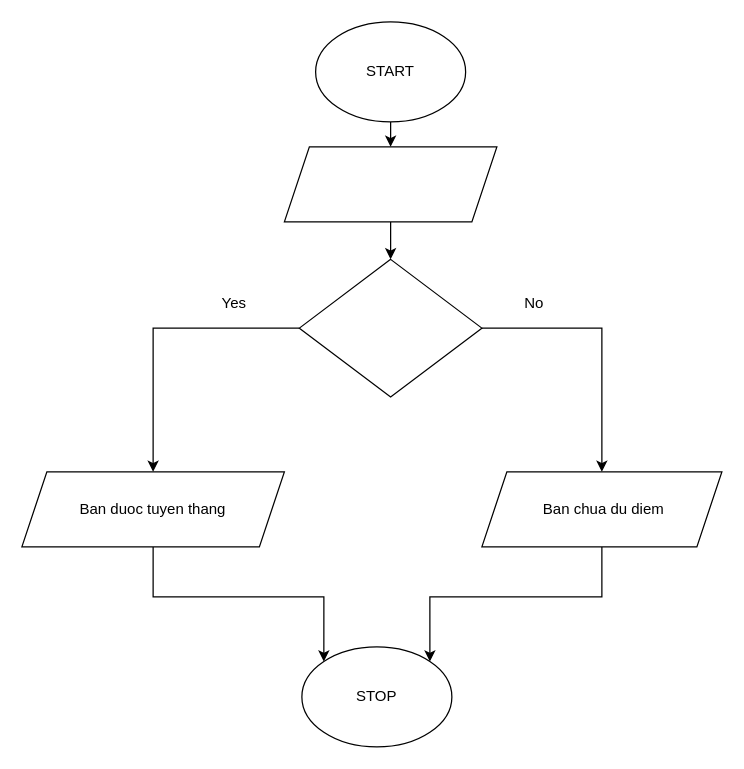
Image size: 744x769. Some labels were removed from this diagram. The box of each missing label's shape, as (x1, y1, x2, y2) in pixels:
diem hoc ky >=8.5: (298, 258, 482, 397)
INPUT diem hoc ky: (283, 146, 497, 222)
